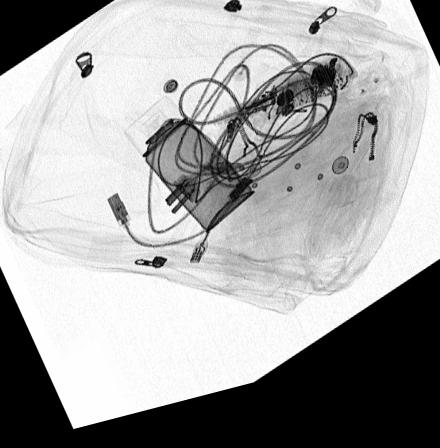Sprayer: (123, 105, 256, 244)
